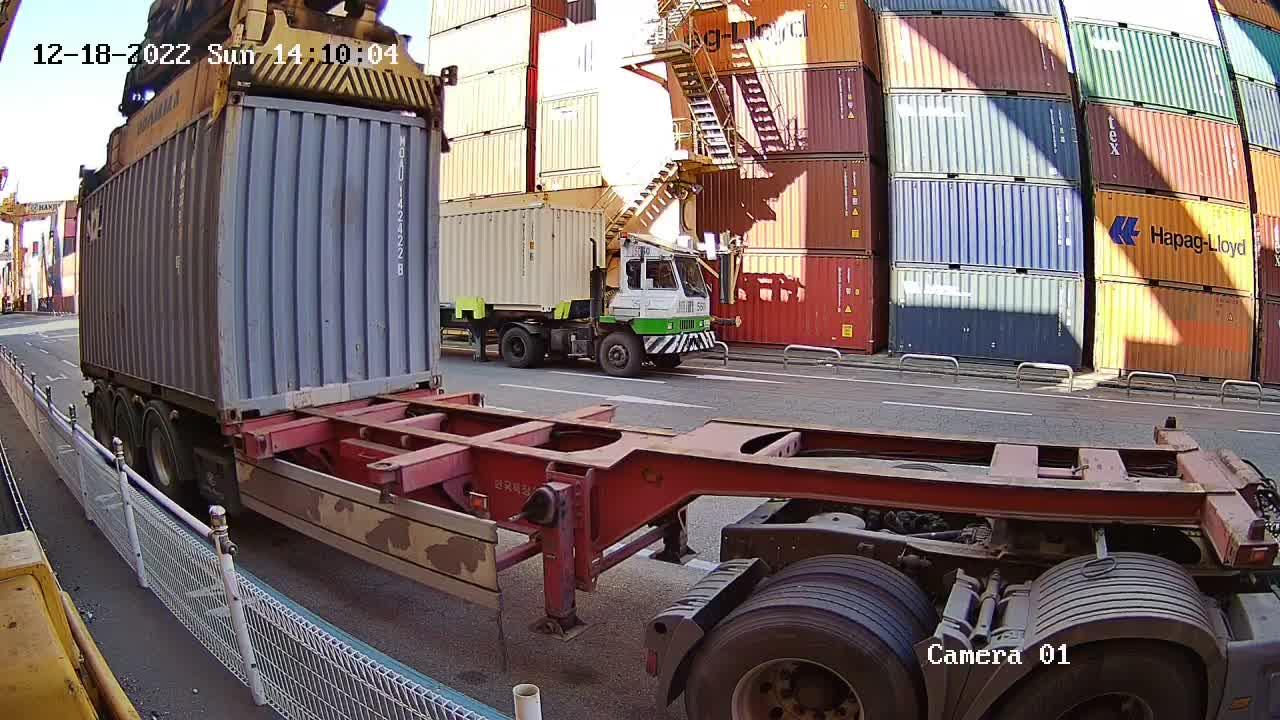Chassis: (248, 392, 483, 453)
Cone: (245, 433, 268, 456), (216, 426, 237, 450)
Hole_L: (225, 384, 262, 424)
Hole_R: (408, 354, 442, 390), (200, 384, 224, 425)
Tire: (143, 414, 177, 490), (113, 403, 137, 465), (91, 388, 111, 446)
